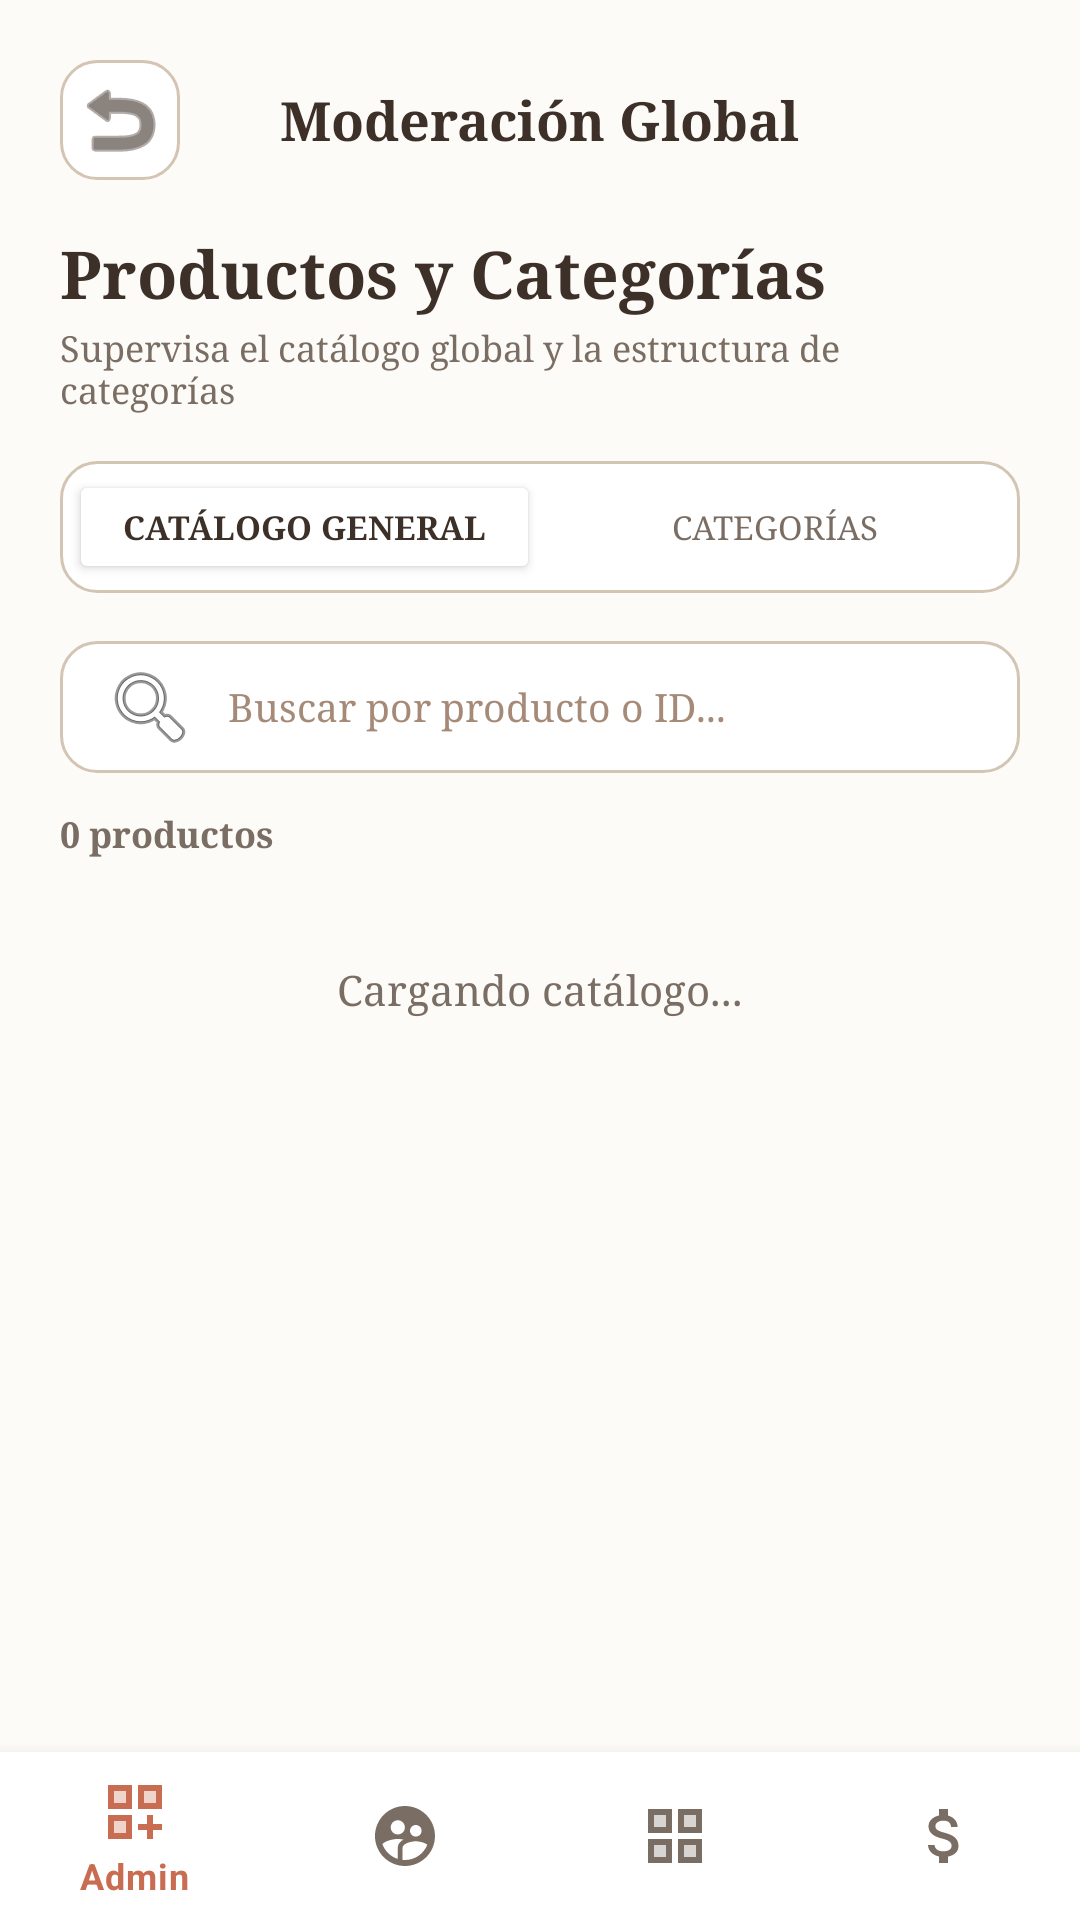

Screen size 1080w x 1920h. Icon name, then its center in pixels as point (x, y):
Volver: point (120, 120)
